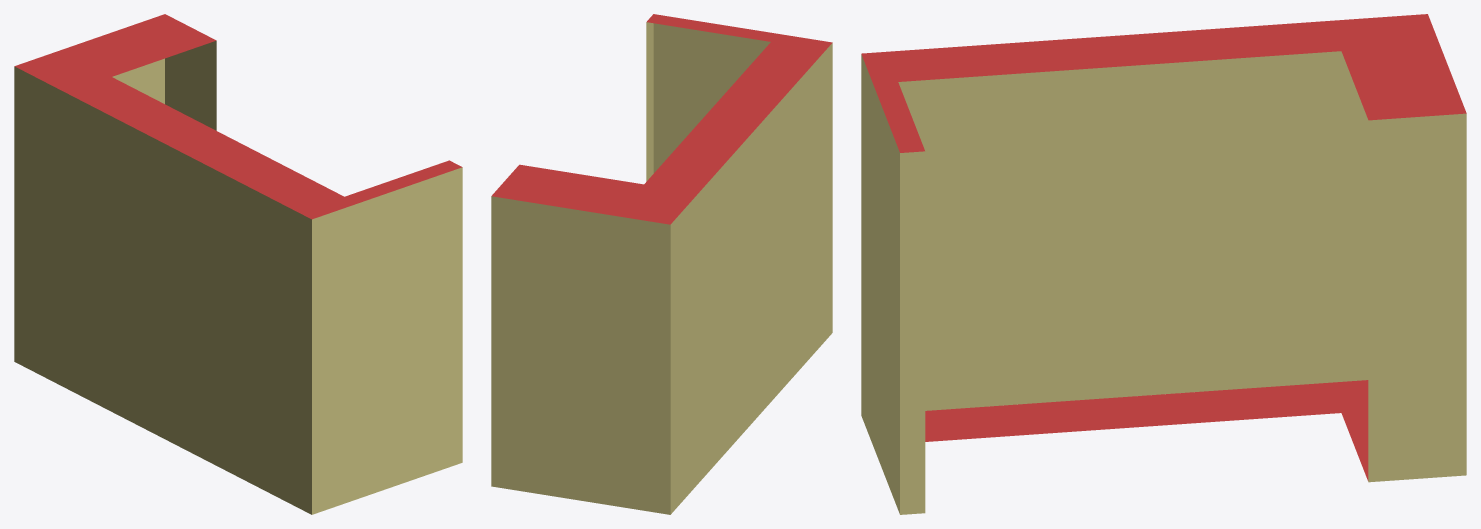
3 renders of one model, left to right at view 1: azimuth 30°, elevation 25°; view 2: azimuth 150°, elevation 25°; view 3: azimuth 270°, elevation 25°, orthographic. The views are drawn at different scales.
Parts seen in each view (by area): view 1: group_4, group_3; view 2: group_4, group_3; view 3: group_4, group_3, group_5.
Part boxes in pixels (x1,y1,x2,y2): group_4: (14,40,462,514); group_3: (14,14,462,219); group_4: (491,22,832,514); group_3: (491,14,832,224); group_4: (861,51,1466,514); group_3: (861,14,1466,152); group_5: (925,380,1368,480).
Size of the model in its own units: 9.52 by 17.52 by 11.55.
